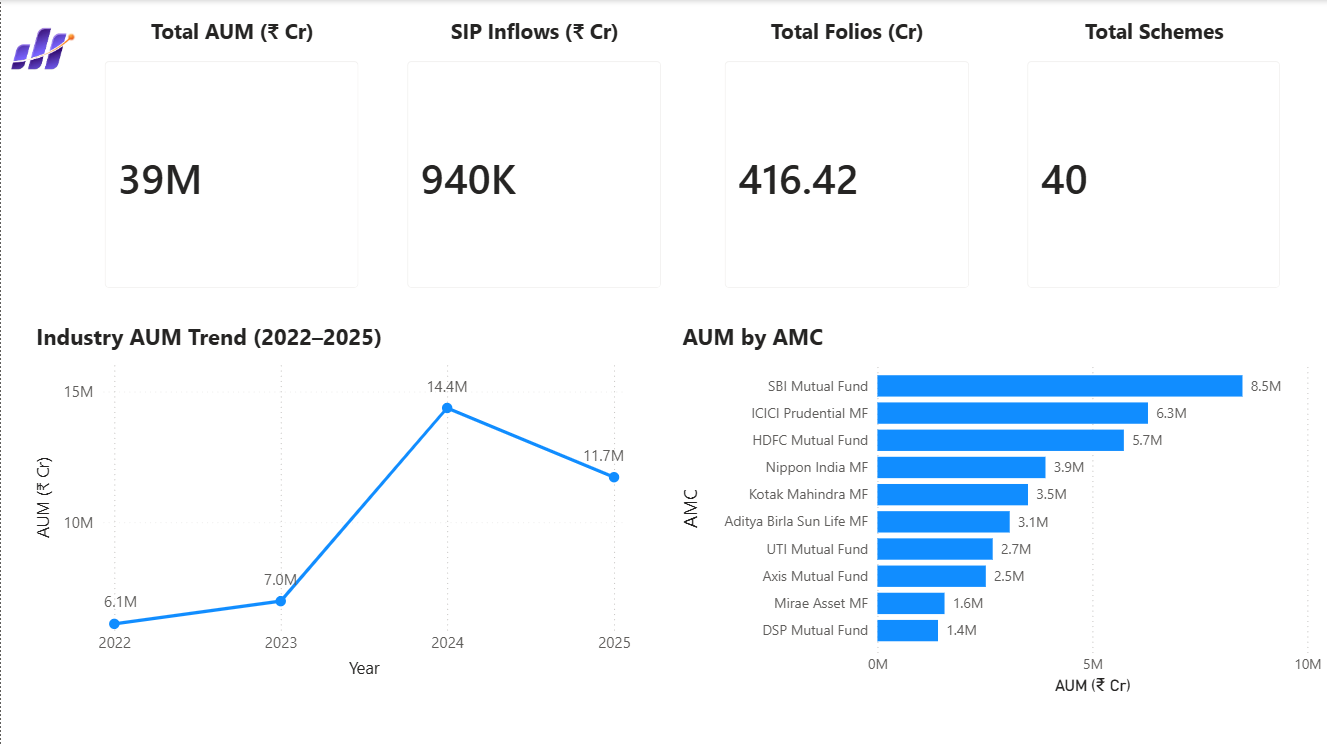

What the dashboard file says about the page in this screenshot:
{"tool":"powerbi","page":{"name":"Industry Overview","canvas":[1280,720],"ordinal":0},"visuals":[{"type":"cardVisual","title":"Total AUM (₹ Cr)","fields":{"Data":["Measures (2).Total AUM"]},"box":[83.2,15.7,279.9,236.5],"z":0},{"type":"cardVisual","title":"SIP Inflows (₹ Cr)","fields":{"Data":["Measures (2).Total SIP"]},"box":[375.2,15.7,279.9,236.5],"z":1000},{"type":"cardVisual","title":"Total Folios (Cr)","fields":{"Data":["Measures (2).Total Folios"]},"box":[681.6,15.7,270.2,236.5],"z":2000},{"type":"cardVisual","title":"Total Schemes","fields":{"Data":["Measures (2).Total Schemes"]},"box":[973.6,15.7,278.7,236.5],"z":3000},{"type":"lineChart","title":"Industry AUM Trend (2022–2025)","fields":{"Y":["Sum(AUM.aum_crore)"],"Category":["AUM.date.Variation.Date Hierarchy.Year"]},"box":[29,359.5,583.9,300.4],"z":4000},{"type":"clusteredBarChart","title":"AUM by AMC","fields":{"Category":["AUM.fund_house"],"Y":["Sum(AUM.aum_crore)"]},"box":[652.7,359.5,627.3,316.1],"z":5000},{"type":"image","box":[0,0,72.4,74.8],"z":6000},{"type":"slicer","title":"Fund House","fields":{"Values":["Fund Master.fund_house"]},"box":[279.9,252.1,300.4,91.7],"z":6001},{"type":"slicer","title":"Year","fields":{"Values":["AUM.date.Variation.Date Hierarchy.Year"]},"box":[726.3,252.1,300.4,107.4],"z":6002}]}

Visuals, with their boxes in screenshot pixels (x1, y1, x2, y2), scaled from the page's 1280x720 canvas onto the 1327x746 screenshot:
"Total AUM (₹ Cr)" cardVisual: bbox(86, 16, 376, 261)
"SIP Inflows (₹ Cr)" cardVisual: bbox(389, 16, 679, 261)
"Total Folios (Cr)" cardVisual: bbox(707, 16, 987, 261)
"Total Schemes" cardVisual: bbox(1009, 16, 1298, 261)
"Industry AUM Trend (2022–2025)" lineChart: bbox(30, 372, 635, 684)
"AUM by AMC" clusteredBarChart: bbox(677, 372, 1326, 700)
image: bbox(0, 0, 75, 78)
"Fund House" slicer: bbox(290, 261, 602, 356)
"Year" slicer: bbox(753, 261, 1064, 372)
